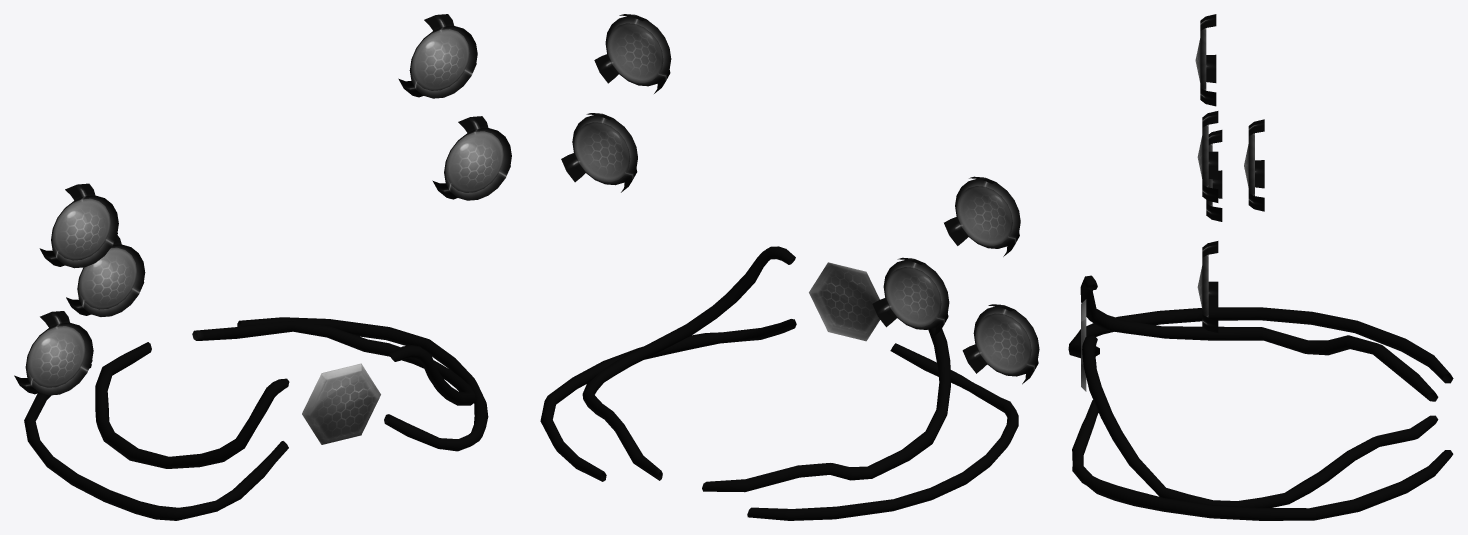
File: ts_tpanfx.FBX
The picture shows the model from 3 angles, left to right: view 1: azimuth 30°, elevation 25°; view 2: azimuth 150°, elevation 25°; view 3: azimuth 270°, elevation 25°; orthographic projection. The views are drawn at different scales.
Parts seen in each view (by area): view 1: tp_dxgd001, tp_dtpan, tp_anz_r, tp_anz_p, tp_anz_b, tp_anz_y, tp_anz_g; view 2: tp_dxgd001, tp_anz_g, tp_anz_b, tp_anz_y, tp_anz_r, tp_anz_p, tp_dtpan; view 3: tp_dxgd001, tp_anz_r, tp_anz_p, tp_anz_y, tp_anz_g, tp_anz_b.
Part boxes in pixels (x1,y1,x2,y2): tp_dxgd001: [24, 317, 488, 520]; tp_dtpan: [302, 363, 380, 444]; tp_anz_r: [39, 183, 118, 268]; tp_anz_p: [398, 14, 477, 98]; tp_anz_b: [14, 311, 93, 395]; tp_anz_y: [432, 116, 511, 200]; tp_anz_g: [66, 235, 145, 316]; tp_dxgd001: [540, 246, 1018, 520]; tp_anz_g: [872, 257, 949, 337]; tp_anz_b: [962, 304, 1039, 384]; tp_anz_y: [561, 113, 637, 192]; tp_anz_r: [944, 176, 1020, 256]; tp_anz_p: [594, 14, 671, 93]; tp_dtpan: [809, 262, 880, 341]; tp_dxgd001: [1068, 275, 1453, 520]; tp_anz_r: [1195, 14, 1216, 106]; tp_anz_p: [1197, 111, 1218, 202]; tp_anz_y: [1197, 241, 1218, 332]; tp_anz_g: [1244, 119, 1264, 211]; tp_anz_b: [1206, 130, 1222, 221].
Size of the model in its own units: 4.4 by 3.24 by 2.92.
Materials: 3 (3 with a texture image).
